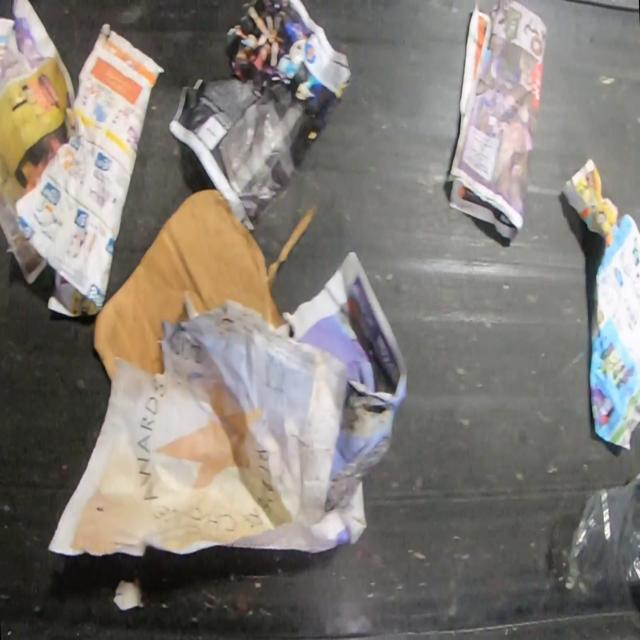cardboard: (92, 188, 317, 384)
soft_plastic: (566, 472, 640, 639)
